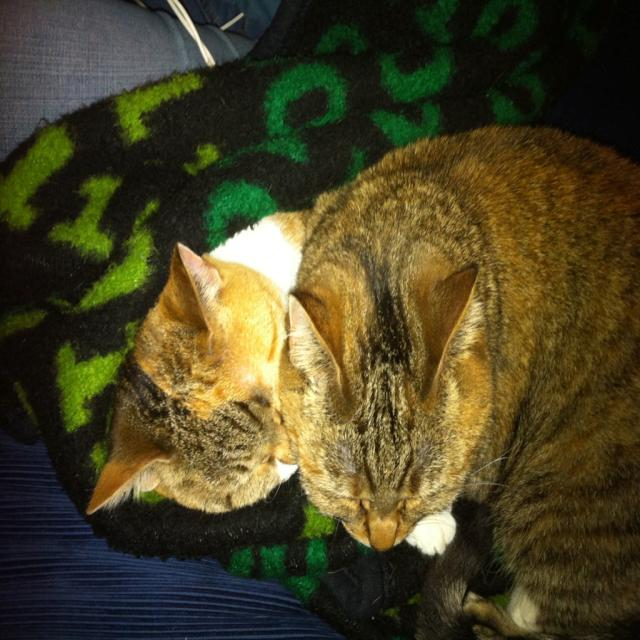Cat: (278, 125, 639, 638), (85, 205, 458, 560)
